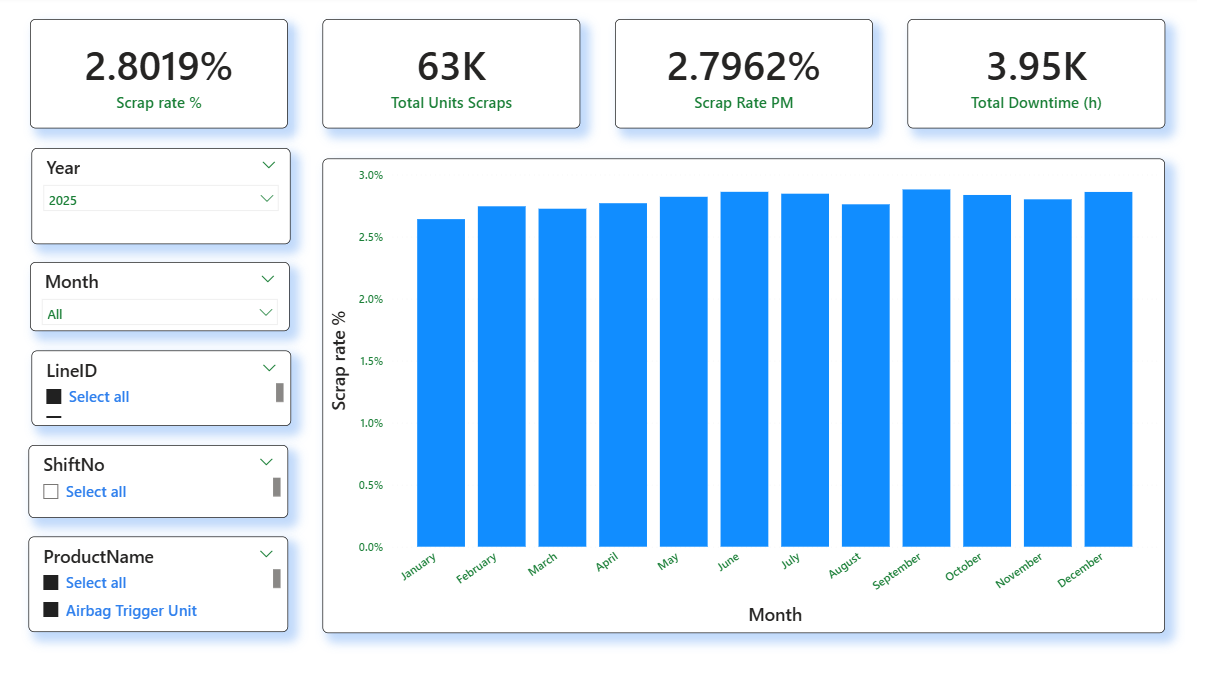

This screenshot's page, from the dashboard's own definition file:
{"tool":"powerbi","page":{"name":"SR","canvas":[1280,720],"ordinal":1},"visuals":[{"type":"card","fields":{"Values":["Measures_Plant.Scrap rate %"]},"box":[37.5,25.4,273.6,115.8],"z":0},{"type":"card","fields":{"Values":["Measures_Plant.Total Units Scraps"]},"box":[347.9,25.4,273.6,116.1],"z":1000},{"type":"card","fields":{"Values":["Measures_Plant.Scrap Rate PM"]},"box":[658.3,25.4,273.6,115.8],"z":2000},{"type":"card","fields":{"Values":["Measures_Plant.Total Downtime (h)"]},"box":[968.7,25.4,273.6,116.1],"z":3000},{"type":"clusteredColumnChart","fields":{"Category":["Calendar.Month"],"Y":["Measures_Plant.Scrap rate %"]},"box":[348.3,173.3,893.3,503.3],"z":4000},{"type":"slicer","fields":{"Values":["Calendar.Year"]},"box":[40,161.6,274.4,101.8],"z":5000},{"type":"slicer","fields":{"Values":["Calendar.Month"]},"box":[38,283.8,275,73],"z":6000},{"type":"slicer","fields":{"Values":["Production_Log.LineID"]},"box":[39,377.2,275,80],"z":7000},{"type":"slicer","fields":{"Values":["Production_Log.ShiftNo"]},"box":[37,477.6,275,77],"z":8000},{"type":"slicer","fields":{"Values":["DIM_Product.ProductName"]},"box":[37,575,275,101],"z":9000}]}

Visuals, with their boxes in screenshot pixels (x1, y1, x2, y2), scaled from the page's 1280x720 canvas onto the 1206x674 screenshot:
card - Measures_Plant.Scrap rate %: rect(35, 24, 293, 132)
card - Measures_Plant.Total Units Scraps: rect(328, 24, 586, 132)
card - Measures_Plant.Scrap Rate PM: rect(620, 24, 878, 132)
card - Measures_Plant.Total Downtime (h): rect(913, 24, 1170, 132)
clusteredColumnChart - Calendar.Month x Measures_Plant.Scrap rate %: rect(328, 162, 1170, 633)
slicer - Calendar.Year: rect(38, 151, 296, 247)
slicer - Calendar.Month: rect(36, 266, 295, 334)
slicer - Production_Log.LineID: rect(37, 353, 296, 428)
slicer - Production_Log.ShiftNo: rect(35, 447, 294, 519)
slicer - DIM_Product.ProductName: rect(35, 538, 294, 633)
